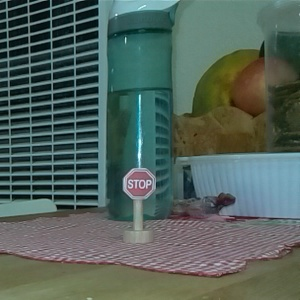stop sign: (119, 166, 159, 244)
